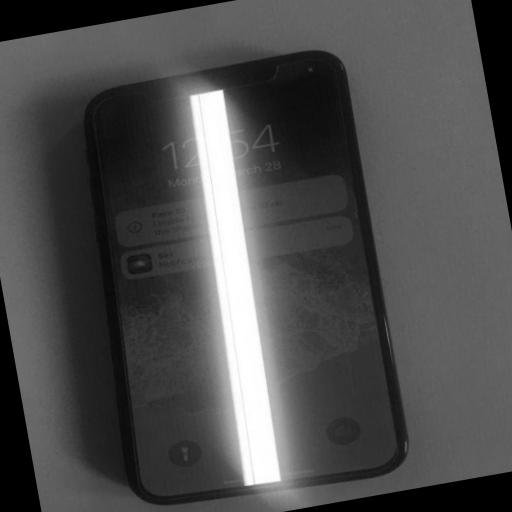phone: (83, 44, 410, 509)
